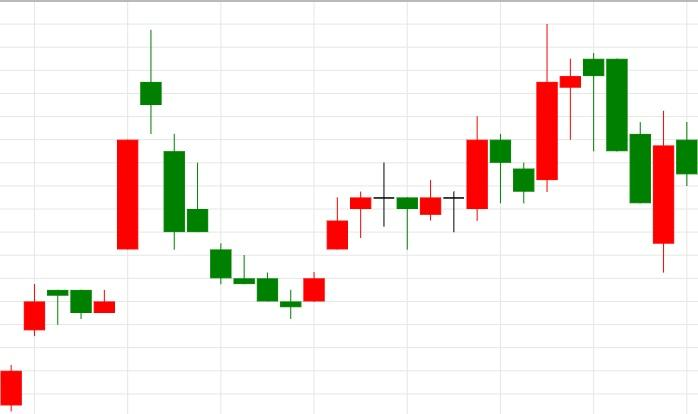bullish_engulfing_rise: (582, 54, 675, 272)
evening_star_fall: (280, 162, 418, 318)
morning_star_rise: (141, 30, 326, 319)
